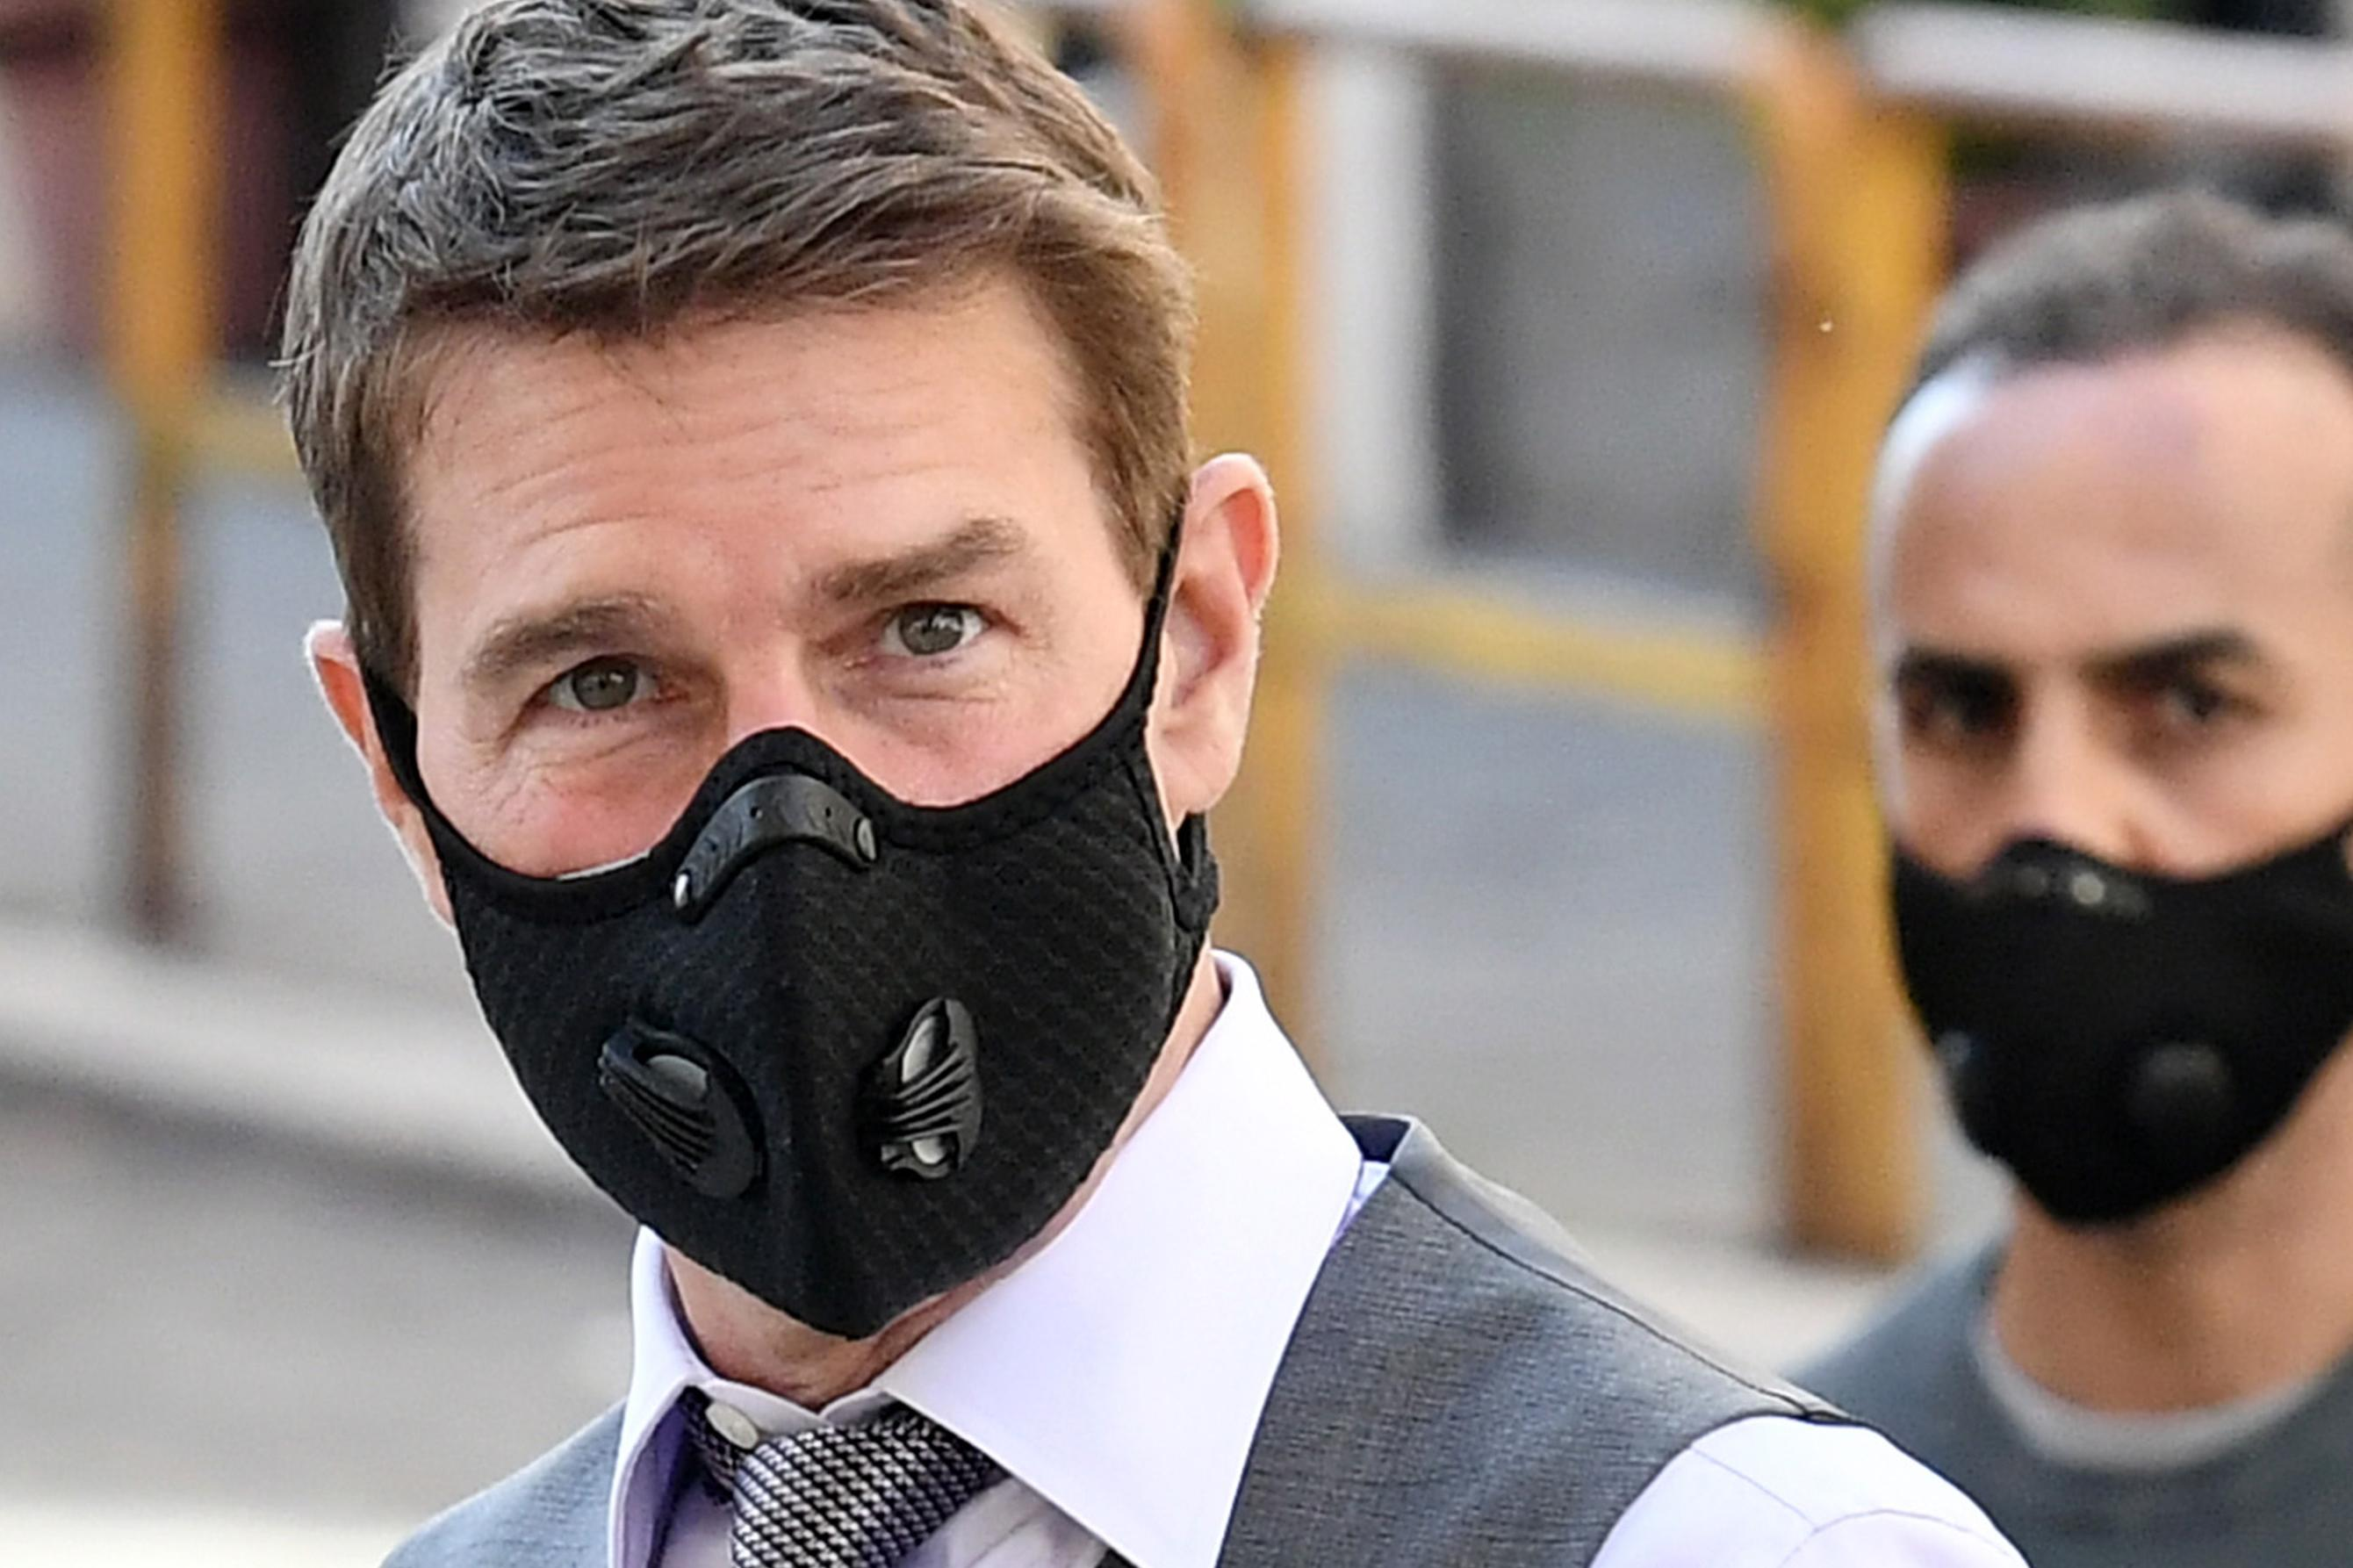mask: (391, 734, 1212, 1349), (1868, 775, 2353, 1244)
person: (169, 18, 1885, 1568), (1829, 191, 2353, 1529)
